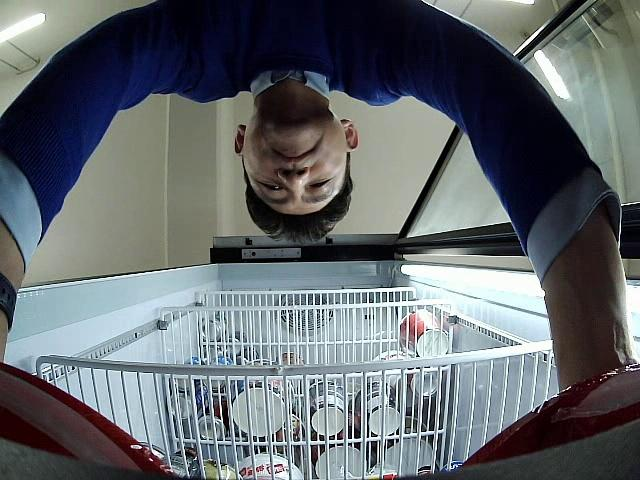10_wangTtukkeong: (460, 363, 640, 480), (0, 361, 173, 480)
